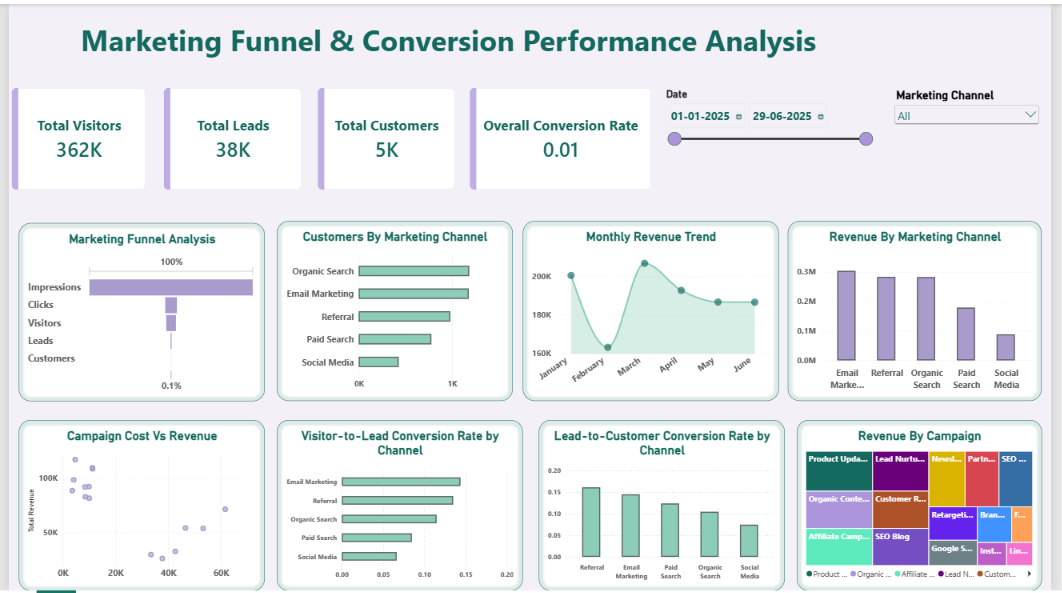

The dashboard page shown, as its layout file describes it:
{"tool":"powerbi","page":{"name":"Page 1","canvas":[1920,1080],"ordinal":0},"visuals":[{"type":"cardVisual","fields":{"Data":["Future_Interns_Task_3_Marketing_Funnel_Dataset.Total Visitors"]},"box":[6.2,154.4,247,187.3],"z":0},{"type":"cardVisual","fields":{"Data":["Future_Interns_Task_3_Marketing_Funnel_Dataset.Total Leads"]},"box":[286.1,154.4,253.2,187.3],"z":1},{"type":"cardVisual","fields":{"Data":["Future_Interns_Task_3_Marketing_Funnel_Dataset.Total Customers"]},"box":[568.7,154.6,252.1,187.7],"z":2},{"type":"cardVisual","fields":{"Data":["Future_Interns_Task_3_Marketing_Funnel_Dataset.Overall Conversion Rate"]},"box":[848.5,154.6,333.1,187.7],"z":3},{"type":"funnel","title":"Marketing Funnel Analysis","fields":{"Category":["Table.Stage"],"Y":["Table.Funnel Values"]},"box":[18.4,403.1,452.8,327.6],"z":4},{"type":"clusteredBarChart","title":"Customers By Marketing Channel","fields":{"Category":["Future_Interns_Task_3_Marketing_Funnel_Dataset.Marketing Channel"],"Y":["Future_Interns_Task_3_Marketing_Funnel_Dataset.Total Customers"]},"box":[493.3,399.4,434.4,331.3],"z":5},{"type":"clusteredColumnChart","title":" Revenue By Marketing Channel","fields":{"Category":["Future_Interns_Task_3_Marketing_Funnel_Dataset.Marketing Channel"],"Y":["Future_Interns_Task_3_Marketing_Funnel_Dataset.Total Revenue"]},"box":[1433.7,399.4,467.5,331.3],"z":6},{"type":"lineChart","title":"Monthly Revenue Trend","fields":{"Category":["Future_Interns_Task_3_Marketing_Funnel_Dataset.Date.Variation.Date Hierarchy.Month"],"Y":["Future_Interns_Task_3_Marketing_Funnel_Dataset.Total Revenue"]},"box":[946,399.4,471.2,331.3],"z":7},{"type":"scatterChart","title":"Campaign Cost Vs Revenue","fields":{"Category":["Future_Interns_Task_3_Marketing_Funnel_Dataset.Campaign Name"],"X":["Future_Interns_Task_3_Marketing_Funnel_Dataset.Total Campaign Cost"],"Y":["Future_Interns_Task_3_Marketing_Funnel_Dataset.Total Revenue"]},"box":[18.4,765.6,452.8,314.7],"z":8},{"type":"clusteredBarChart","title":"Visitor-to-Lead Conversion Rate by Channel","fields":{"Category":["Future_Interns_Task_3_Marketing_Funnel_Dataset.Marketing Channel"],"Y":["Future_Interns_Task_3_Marketing_Funnel_Dataset.Visitor-to-Lead Rate by Channel"]},"box":[493.3,765.6,452.8,314.7],"z":9},{"type":"lineStackedColumnComboChart","title":"Lead-to-Customer Conversion Rate by Channel","fields":{"Category":["Future_Interns_Task_3_Marketing_Funnel_Dataset.Marketing Channel"],"Y":["Future_Interns_Task_3_Marketing_Funnel_Dataset.Lead-to-Customer Rate by Channel"]},"box":[975.5,765.6,452.8,314.7],"z":10},{"type":"treemap","title":" Revenue By Campaign","fields":{"Group":["Future_Interns_Task_3_Marketing_Funnel_Dataset.Campaign Name"],"Values":["Future_Interns_Task_3_Marketing_Funnel_Dataset.Total Revenue"]},"box":[1450.3,765.6,450.9,314.7],"z":11},{"type":"slicer","fields":{"Values":["Future_Interns_Task_3_Marketing_Funnel_Dataset.Date"]},"box":[1201.8,154.6,397.5,187.7],"z":12},{"type":"slicer","fields":{"Values":["Future_Interns_Task_3_Marketing_Funnel_Dataset.Marketing Channel"]},"box":[1625.2,154.6,276.1,156.4],"z":13},{"type":"textbox","box":[41.2,10.3,1537.6,123.5],"z":14}]}

Visuals, with their boxes in screenshot pixels (x1, y1, x2, y2), scaled from the page's 1920x1080 canvas onto the 1062x593 screenshot:
cardVisual - Future_Interns_Task_3_Marketing_Funnel_Dataset.Total Visitors: <region>3, 85, 140, 188</region>
cardVisual - Future_Interns_Task_3_Marketing_Funnel_Dataset.Total Leads: <region>158, 85, 298, 188</region>
cardVisual - Future_Interns_Task_3_Marketing_Funnel_Dataset.Total Customers: <region>315, 85, 454, 188</region>
cardVisual - Future_Interns_Task_3_Marketing_Funnel_Dataset.Overall Conversion Rate: <region>469, 85, 654, 188</region>
"Marketing Funnel Analysis" funnel: <region>10, 221, 261, 401</region>
"Customers By Marketing Channel" clusteredBarChart: <region>273, 219, 513, 401</region>
" Revenue By Marketing Channel" clusteredColumnChart: <region>793, 219, 1052, 401</region>
"Monthly Revenue Trend" lineChart: <region>523, 219, 784, 401</region>
"Campaign Cost Vs Revenue" scatterChart: <region>10, 420, 261, 592</region>
"Visitor-to-Lead Conversion Rate by Channel" clusteredBarChart: <region>273, 420, 523, 592</region>
"Lead-to-Customer Conversion Rate by Channel" lineStackedColumnComboChart: <region>540, 420, 790, 592</region>
" Revenue By Campaign" treemap: <region>802, 420, 1052, 592</region>
slicer - Future_Interns_Task_3_Marketing_Funnel_Dataset.Date: <region>665, 85, 885, 188</region>
slicer - Future_Interns_Task_3_Marketing_Funnel_Dataset.Marketing Channel: <region>899, 85, 1052, 171</region>
textbox: <region>23, 6, 873, 73</region>
